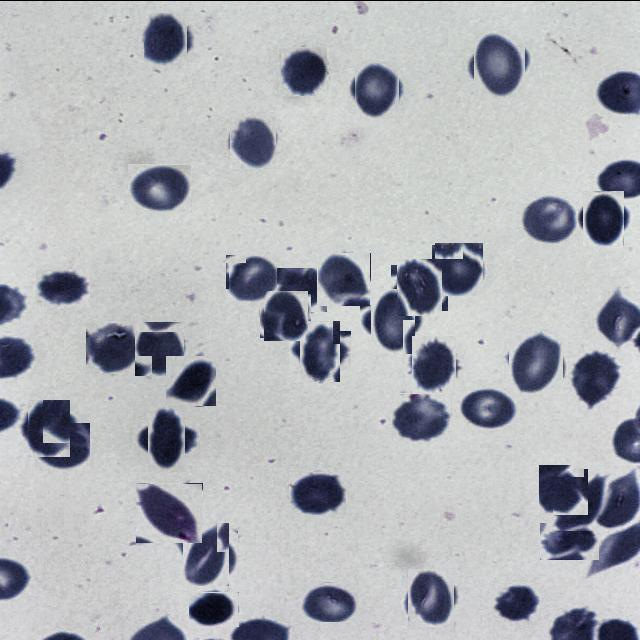red blood cell: (136, 482, 203, 542), (470, 34, 530, 94), (506, 332, 566, 391), (128, 163, 192, 211), (366, 292, 420, 348), (178, 526, 234, 580), (553, 476, 609, 530), (569, 350, 624, 404), (521, 194, 579, 245), (392, 392, 452, 441), (86, 322, 142, 373), (408, 338, 461, 391), (404, 572, 458, 624), (140, 412, 192, 464), (134, 322, 186, 374), (394, 261, 446, 313), (318, 252, 370, 304), (351, 64, 403, 115), (294, 324, 345, 376), (226, 253, 281, 301), (35, 422, 90, 470), (434, 242, 484, 294), (460, 386, 519, 429), (228, 116, 278, 166), (140, 15, 190, 65), (24, 402, 74, 452), (536, 466, 586, 516), (166, 356, 216, 406), (289, 471, 346, 514), (578, 194, 628, 242), (301, 582, 360, 622), (280, 46, 328, 94), (540, 521, 600, 559), (262, 292, 310, 338), (277, 267, 327, 311), (491, 582, 544, 621), (36, 268, 90, 306), (188, 591, 238, 626)
